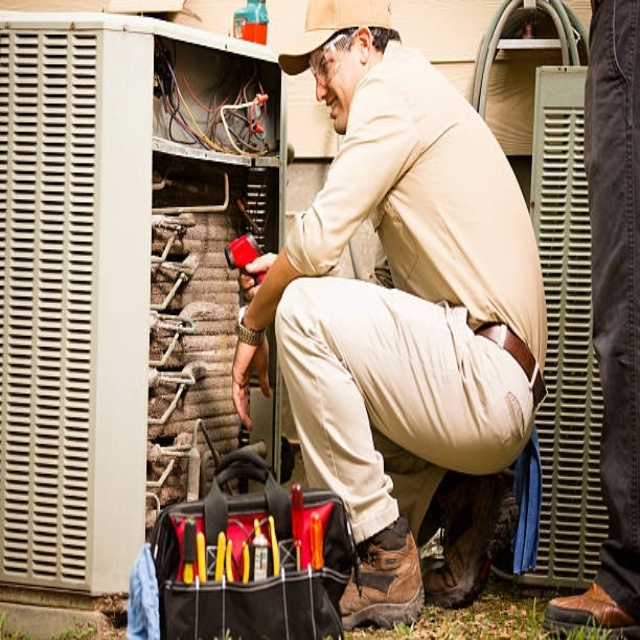Gafas: (311, 32, 352, 82)
Sin_guantes: (232, 297, 272, 421), (235, 251, 278, 307)
Sin_mascara: (321, 93, 346, 130)
